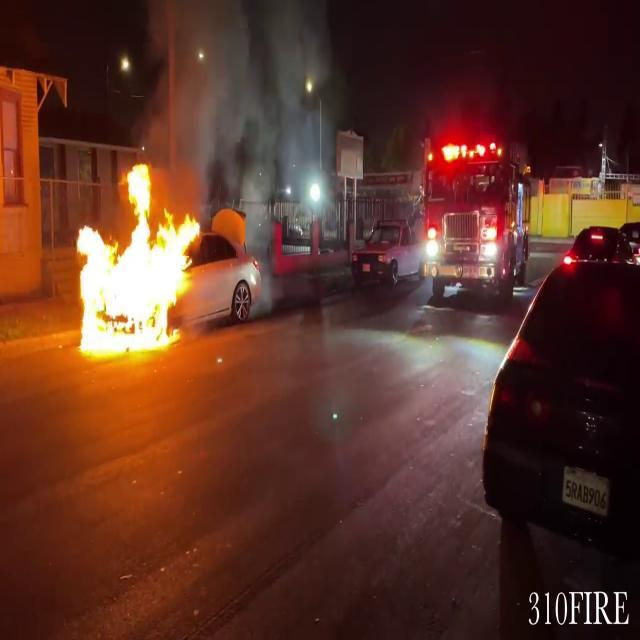Fire: (70, 157, 203, 360)
Smoke: (123, 0, 319, 201)
